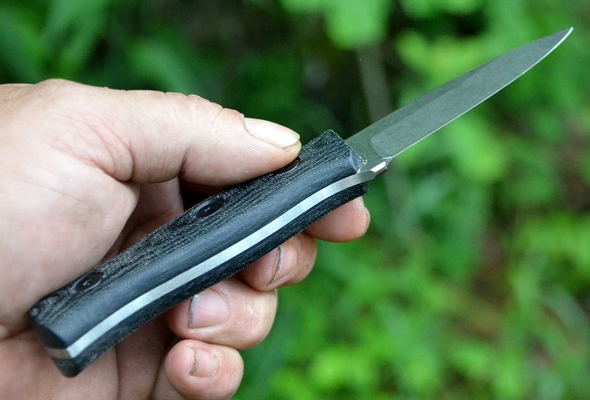knife: (21, 19, 579, 382)
